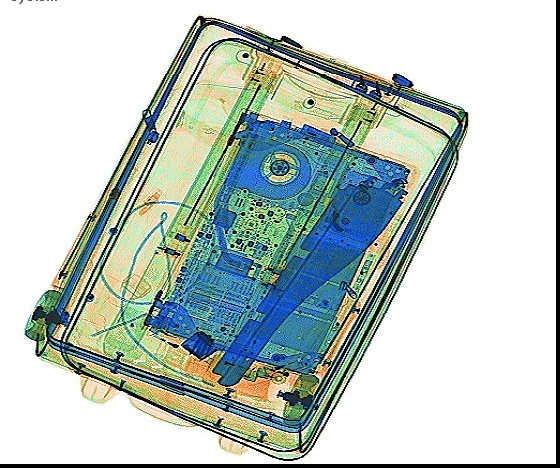lighter: (143, 324, 196, 355), (252, 355, 314, 380), (209, 350, 256, 380)
